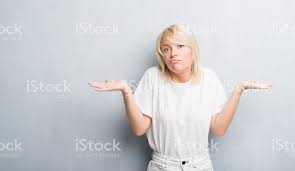white_female: (136, 15, 210, 91)
